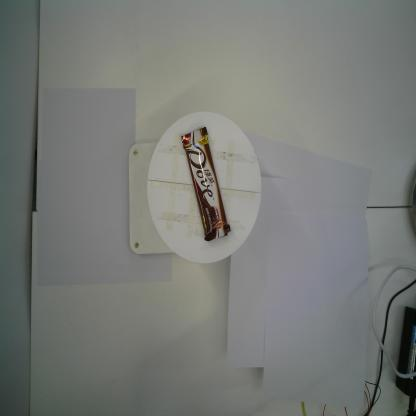Chocolate: (180, 126, 232, 242)
